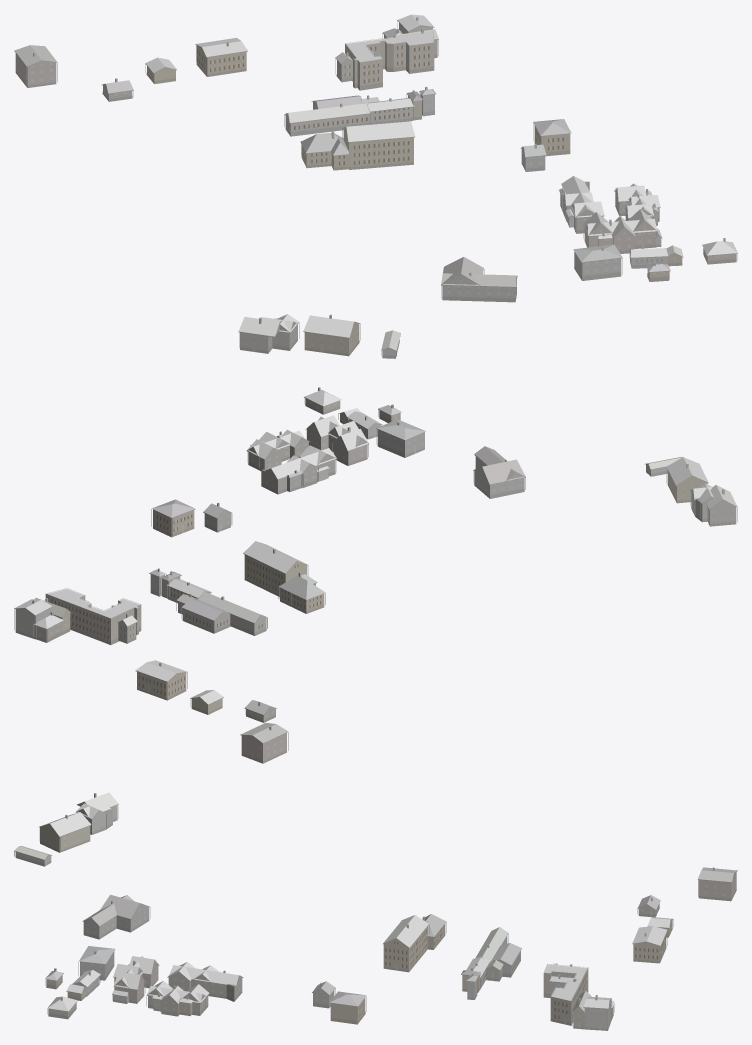
The picture shows the model from 3 angles, top to bottom: view 1: azimuth 30°, elevation 25°; view 2: azimuth 150°, elevation 25°; view 3: azimuth 270°, elevation 25°; orthographic projection. The views are drawn at different scales.
Visible parts, largest first — view 1: bld; view 2: bld; view 3: bld.
Boxes of the visible parts, x1,y1,x2,y2 form: bld: (14,14,737,358); bld: (14,387,737,763); bld: (14,792,737,1030).
Size of the model in its own units: 176 by 18.66 by 263.
